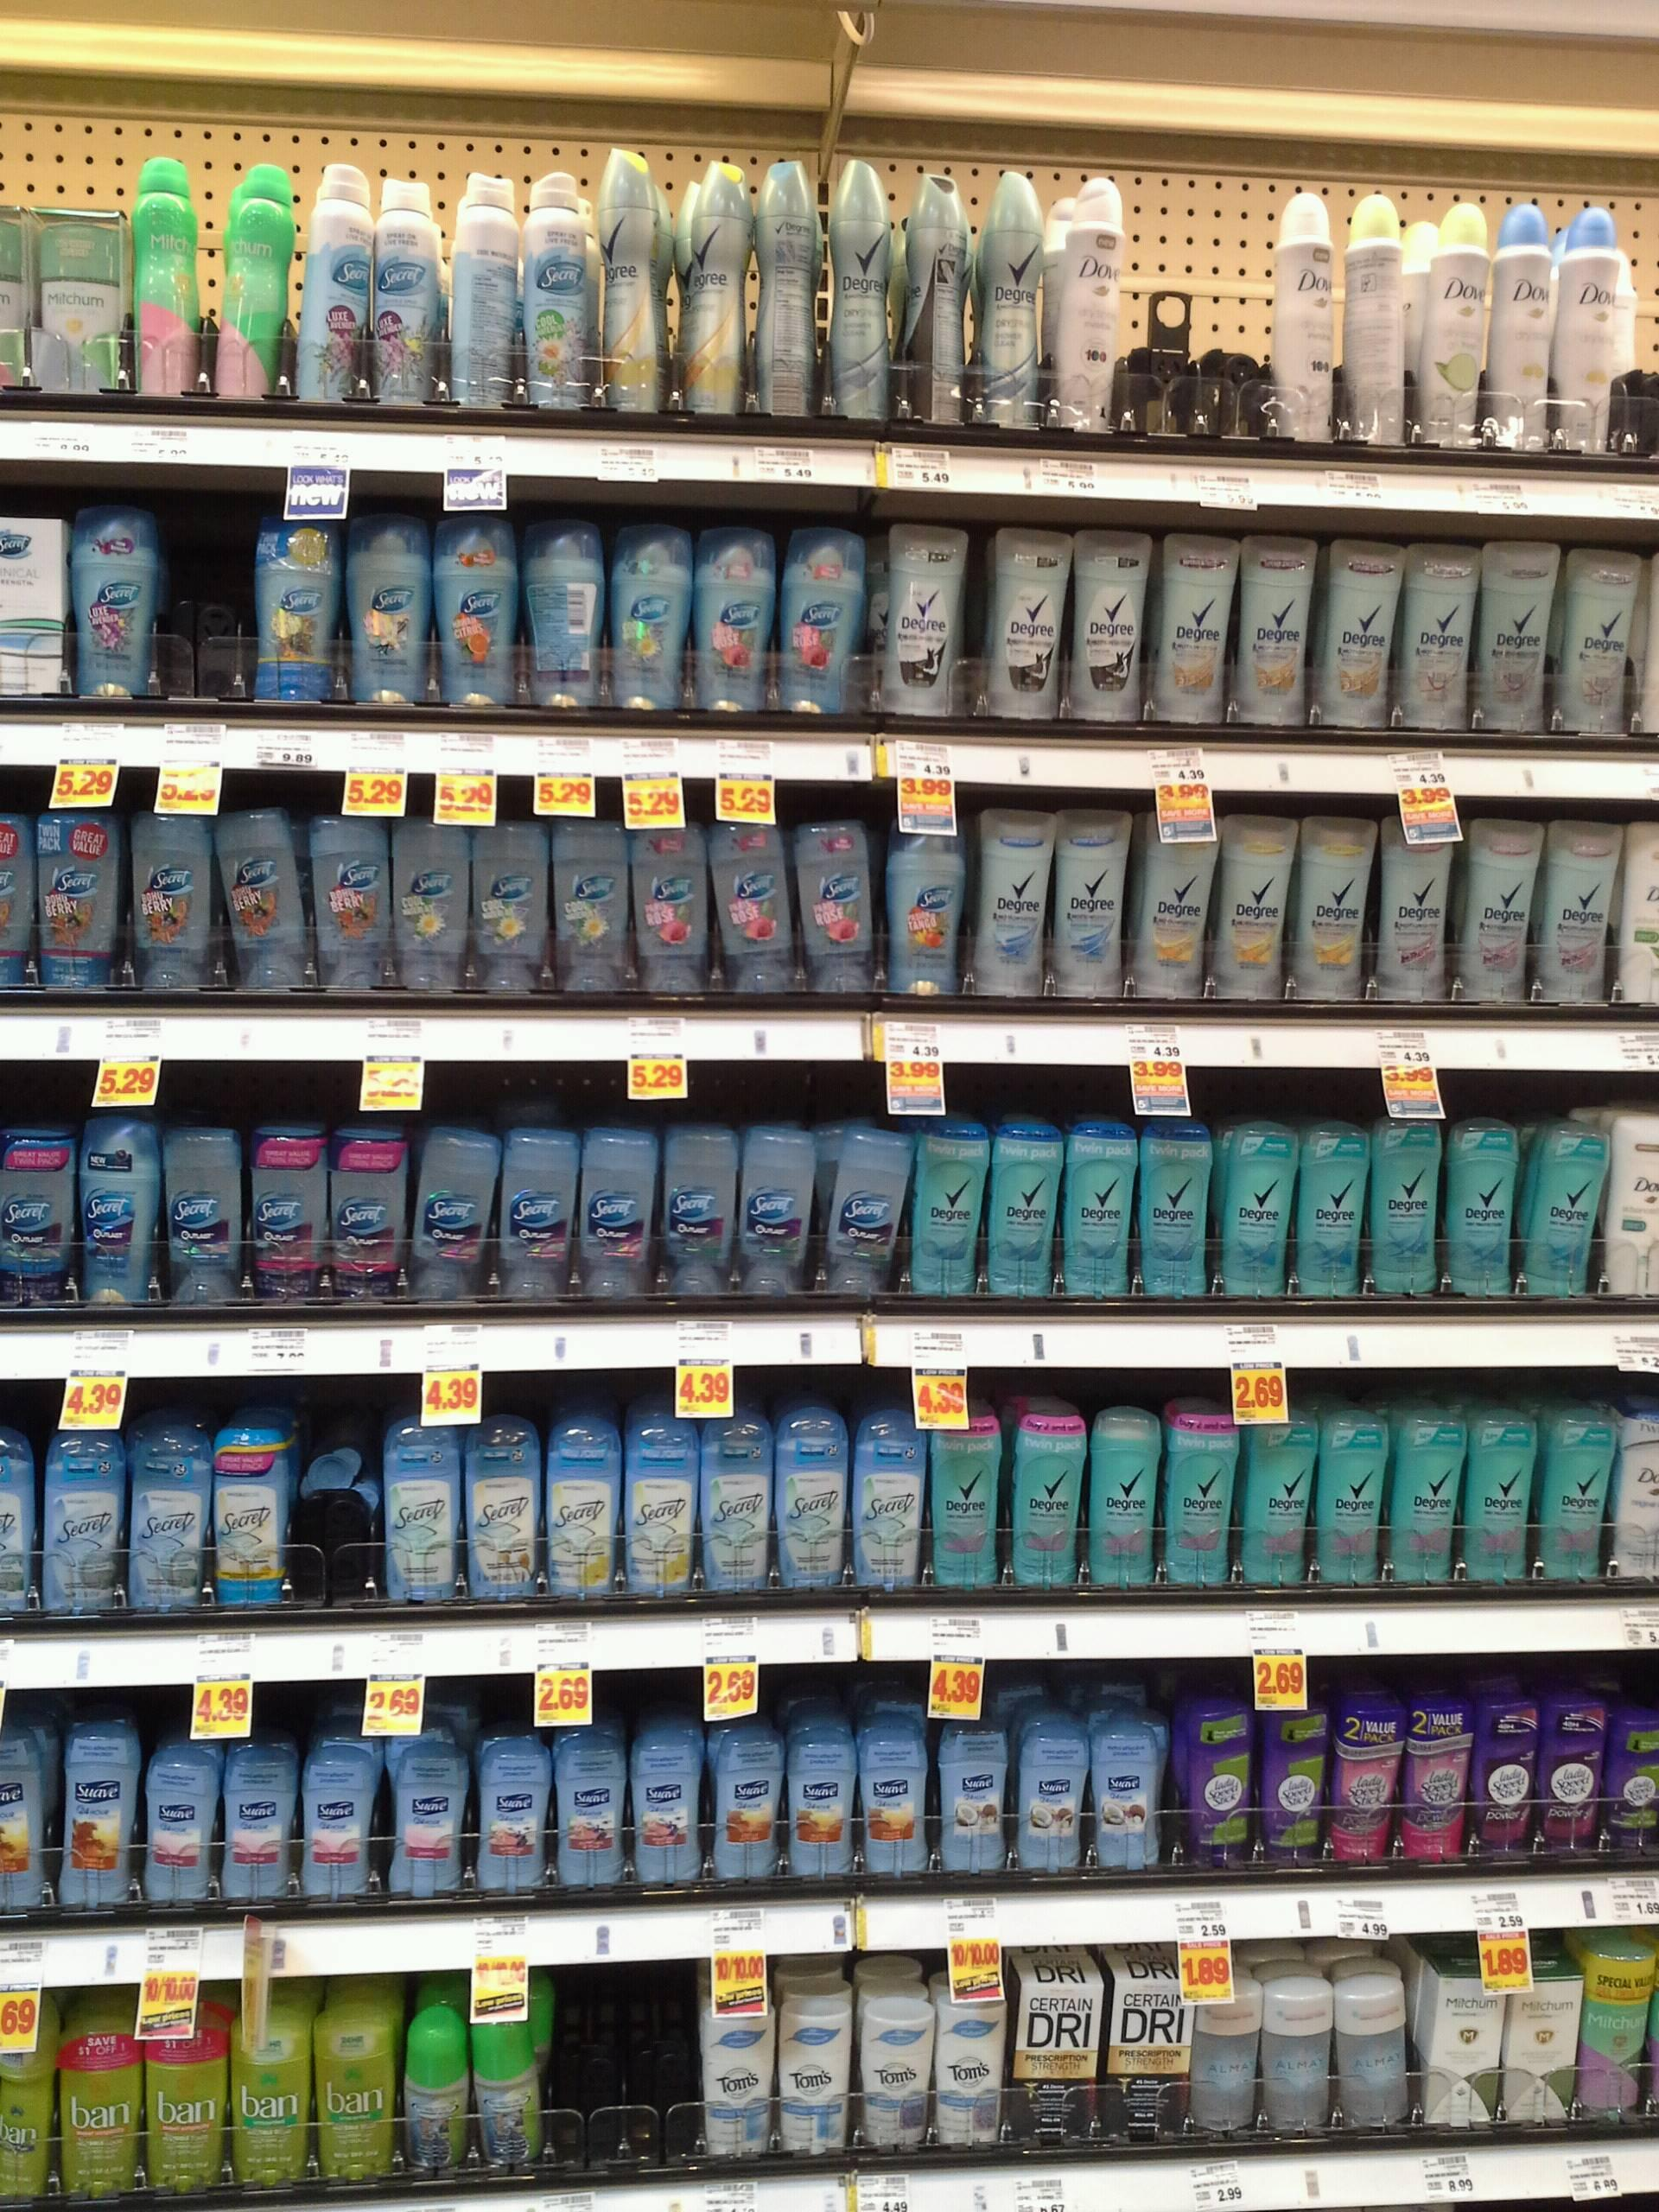empty: (1140, 207, 1244, 427), (153, 510, 258, 702), (626, 1968, 697, 2161), (293, 1406, 364, 1599), (556, 1968, 626, 2161)
